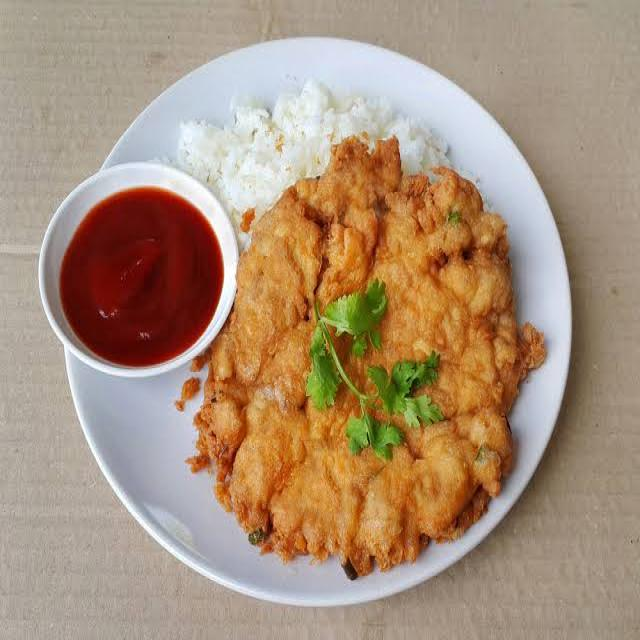carb: (200, 76, 377, 190)
meat: (210, 190, 515, 586)
omelette rice: (107, 84, 549, 544)
vegetable: (300, 288, 451, 462)
